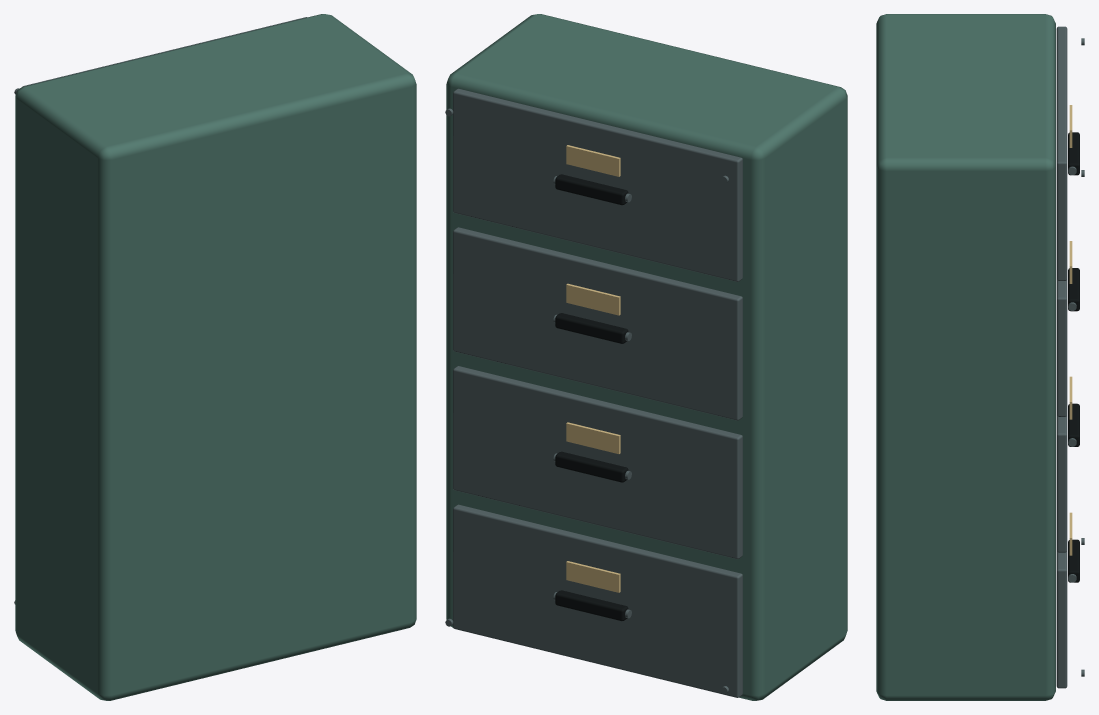
File: Cabinet.obj
3 views of the same model, side by side, from view 1: azimuth 30°, elevation 25°; view 2: azimuth 150°, elevation 25°; view 3: azimuth 270°, elevation 25° (orthographic). The views are drawn at different scales.
Parts seen in each view (by area): view 1: Cabinet; view 2: Cabinet; view 3: Cabinet.
Boxes of the visible parts, x1,y1,x2,y2 form: Cabinet: [14, 14, 416, 700]; Cabinet: [445, 14, 847, 700]; Cabinet: [876, 14, 1084, 700].
Bounding box in the file's own units: 1.2 × 2 × 0.696.
